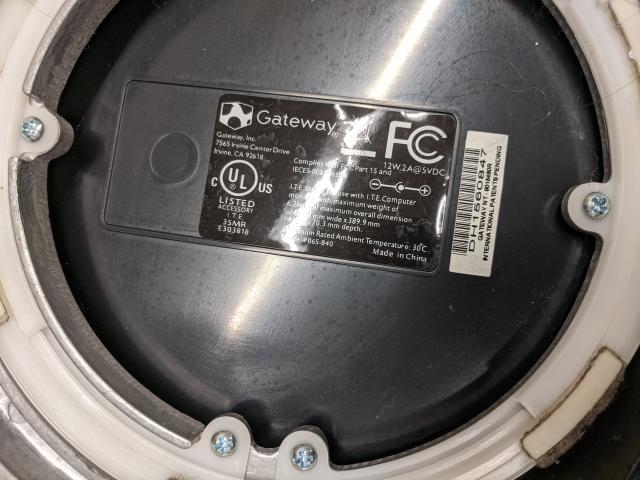CRS: (584, 191, 612, 220), (288, 444, 318, 471), (211, 431, 236, 456), (20, 115, 41, 142)
